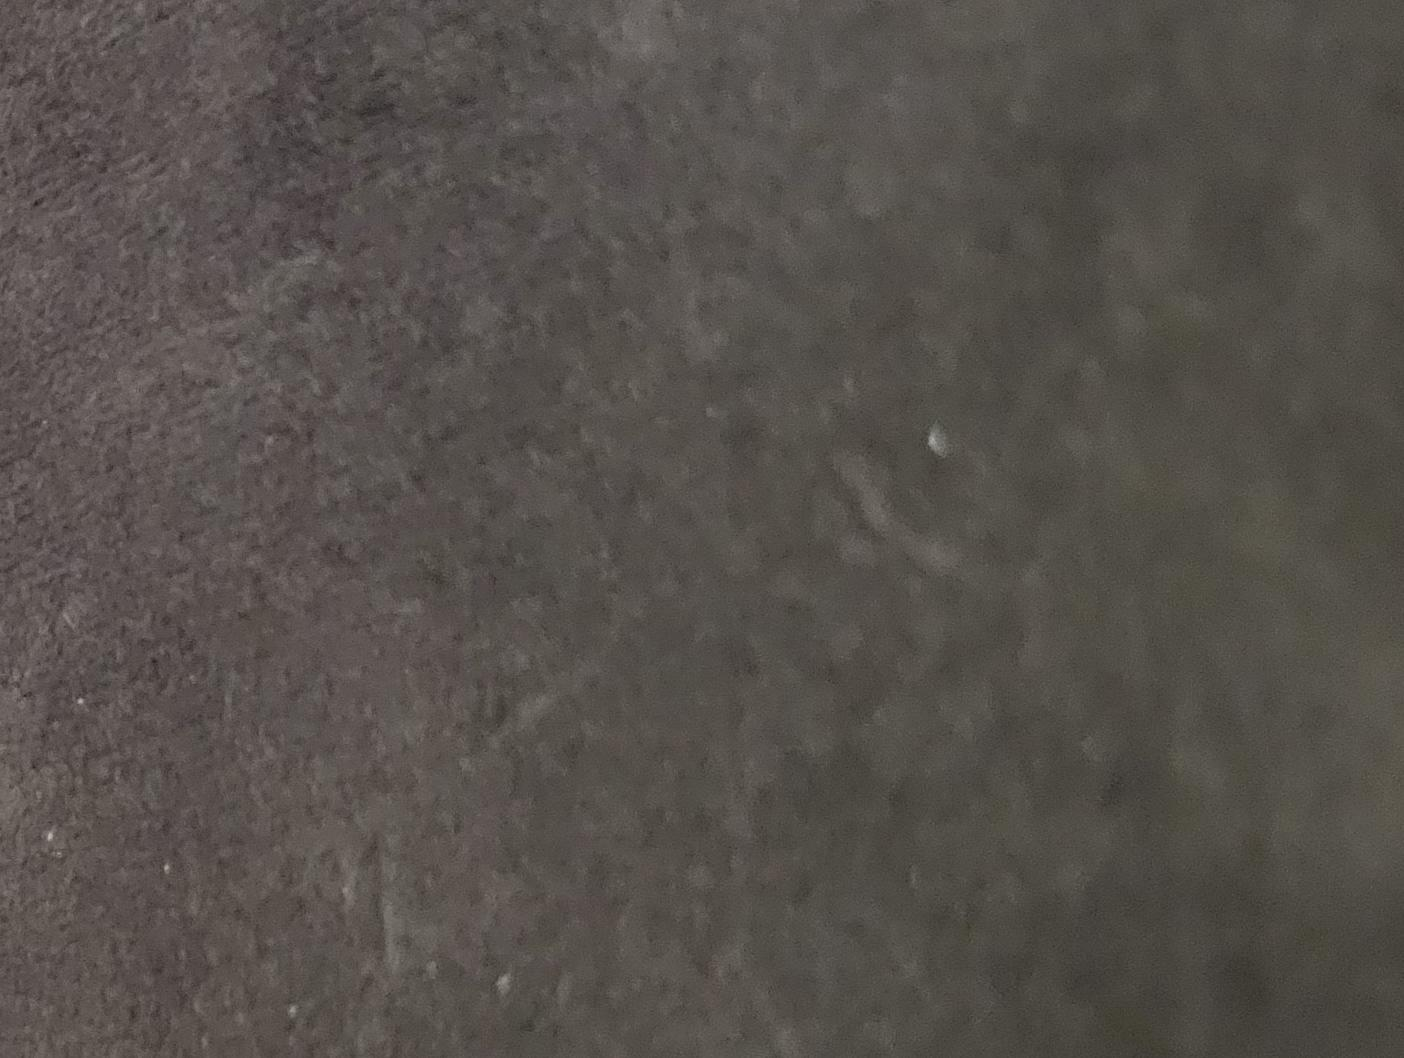Chip: (1, 206, 434, 1058)
